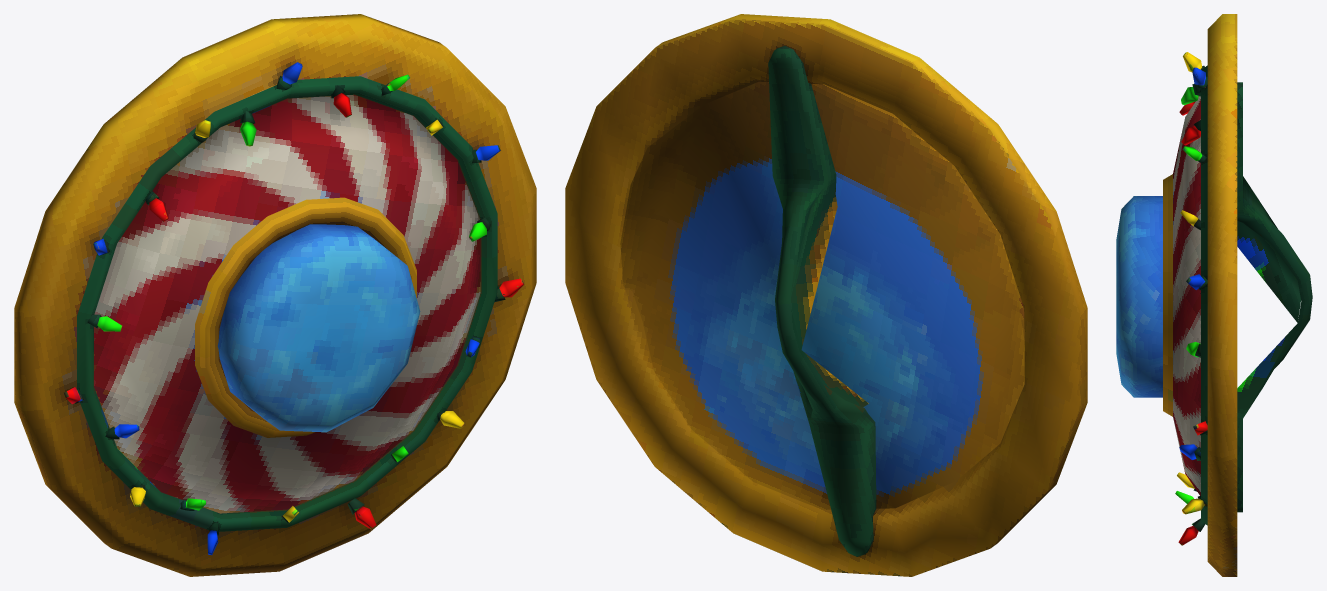
The model's file is item_shield_candy_cane.glb.
3 renders of one model, left to right at view 1: azimuth 30°, elevation 25°; view 2: azimuth 150°, elevation 25°; view 3: azimuth 270°, elevation 25°, orthographic. The views are drawn at different scales.
Parts seen in each view (by area): view 1: CandyCaneShield; view 2: CandyCaneShield; view 3: CandyCaneShield.
Part boxes in pixels (left/top/right/bottom): CandyCaneShield: left=14, top=14, right=536, bottom=576; CandyCaneShield: left=565, top=14, right=1087, bottom=576; CandyCaneShield: left=1116, top=14, right=1312, bottom=576.
Bounding box in the file's own units: 0.5909 × 0.6 × 0.2085.
Materials: 1 (1 with a texture image).
